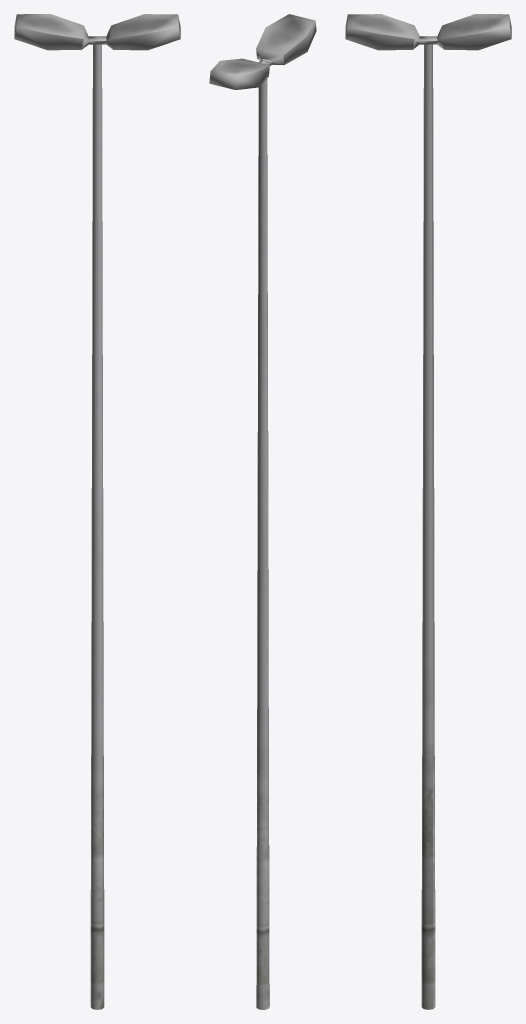
The model's file is SmalldualLamp.FBX.
3 views of the same model, side by side, from view 1: azimuth 90°, elevation 25°; view 2: azimuth 150°, elevation 25°; view 3: azimuth 270°, elevation 25° (orthographic). The views are drawn at different scales.
Visible parts, largest first — view 1: SmallDualLamp; view 2: SmallDualLamp; view 3: SmallDualLamp.
Part boxes in pixels (x1,y1,x2,y2): SmallDualLamp: [14, 14, 180, 1009]; SmallDualLamp: [209, 14, 316, 1009]; SmallDualLamp: [345, 14, 511, 1009].
Bounding box in the file's own units: 13.23 × 45.78 × 300.
